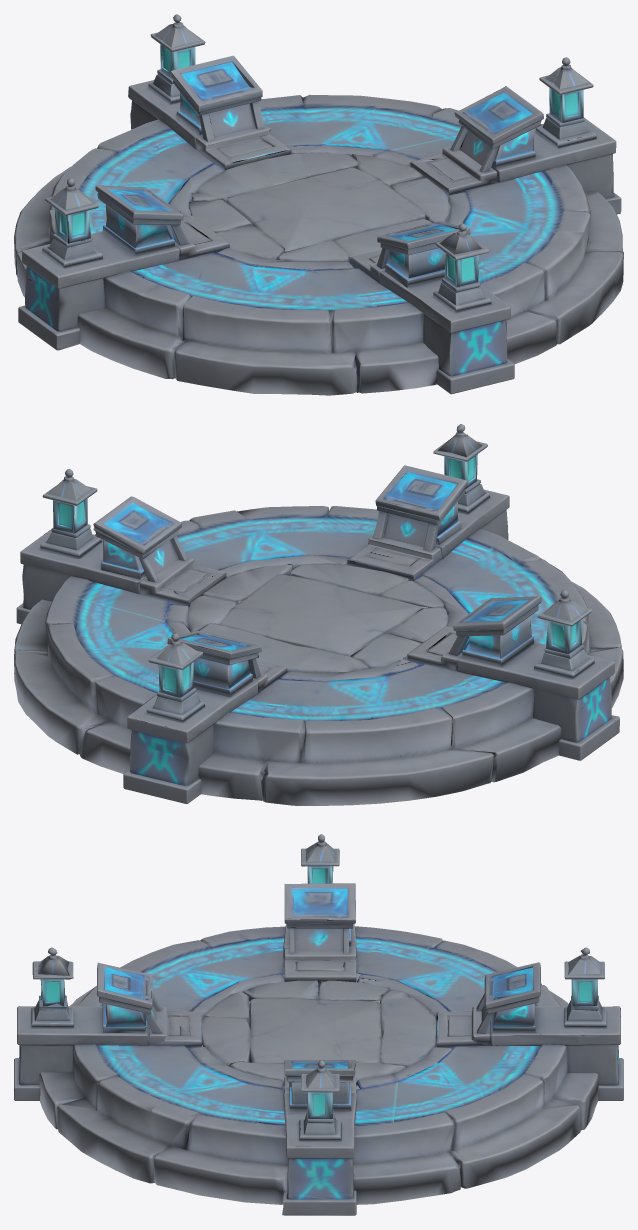
The model's file is duel_stage.glb.
The picture shows the model from 3 angles, top to bottom: view 1: azimuth 30°, elevation 25°; view 2: azimuth 150°, elevation 25°; view 3: azimuth 270°, elevation 25°; orthographic projection. The views are drawn at different scales.
Visible parts, largest first — view 1: geometry_0; view 2: geometry_0; view 3: geometry_0.
Boxes of the visible parts, x1,y1,x2,y2 form: geometry_0: [14, 14, 623, 395]; geometry_0: [14, 424, 623, 805]; geometry_0: [14, 834, 623, 1215].
Size of the model in its own units: 0.9458 by 0.2383 by 0.9458.
Materials: 1 (1 with a texture image).
